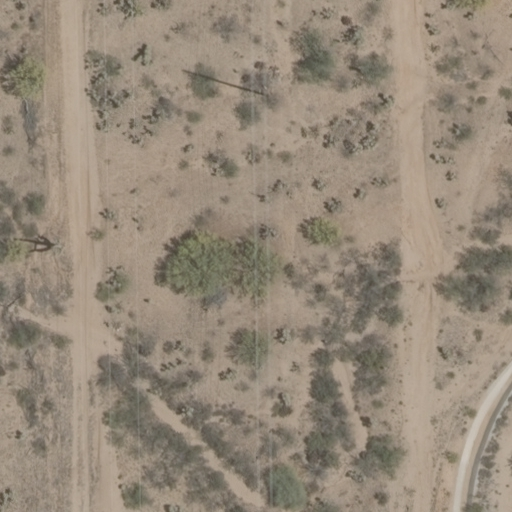DT: (240, 72, 276, 103)
